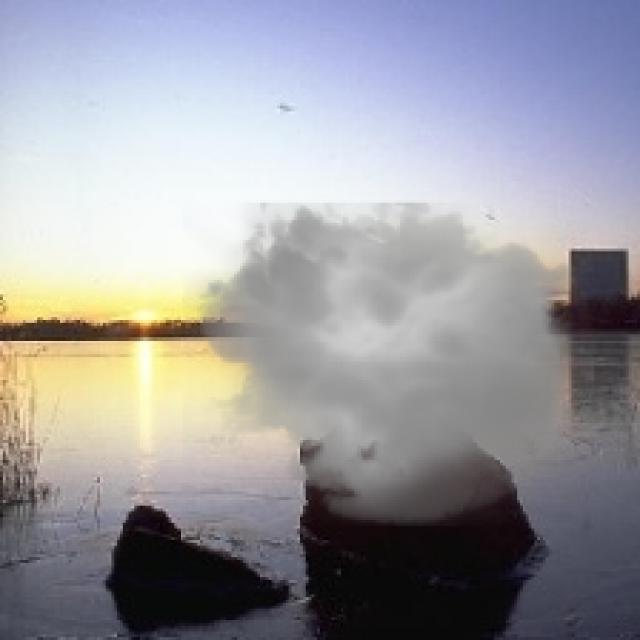Smoke: (182, 185, 594, 538)
